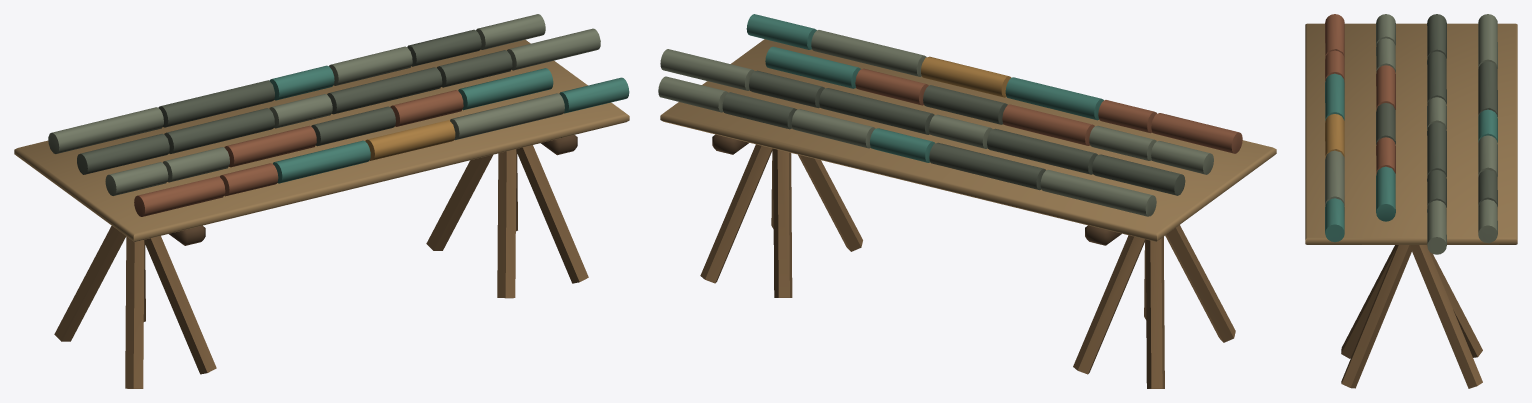
File: core_rack_a_lod1.glb
3 views of the same model, side by side, from view 1: azimuth 30°, elevation 25°; view 2: azimuth 150°, elevation 25°; view 3: azimuth 270°, elevation 25° (orthographic). The views are drawn at different scales.
Parts seen in each view (by area): view 1: Surface.001; view 2: Surface.001; view 3: Surface.001.
Boxes of the visible parts, x1=… form: Surface.001: x1=14, y1=14, x2=629, y2=388; Surface.001: x1=658, y1=14, x2=1276, y2=388; Surface.001: x1=1305, y1=14, x2=1517, y2=388.
Size of the model in its own units: 2.59 by 0.9339 by 1.
